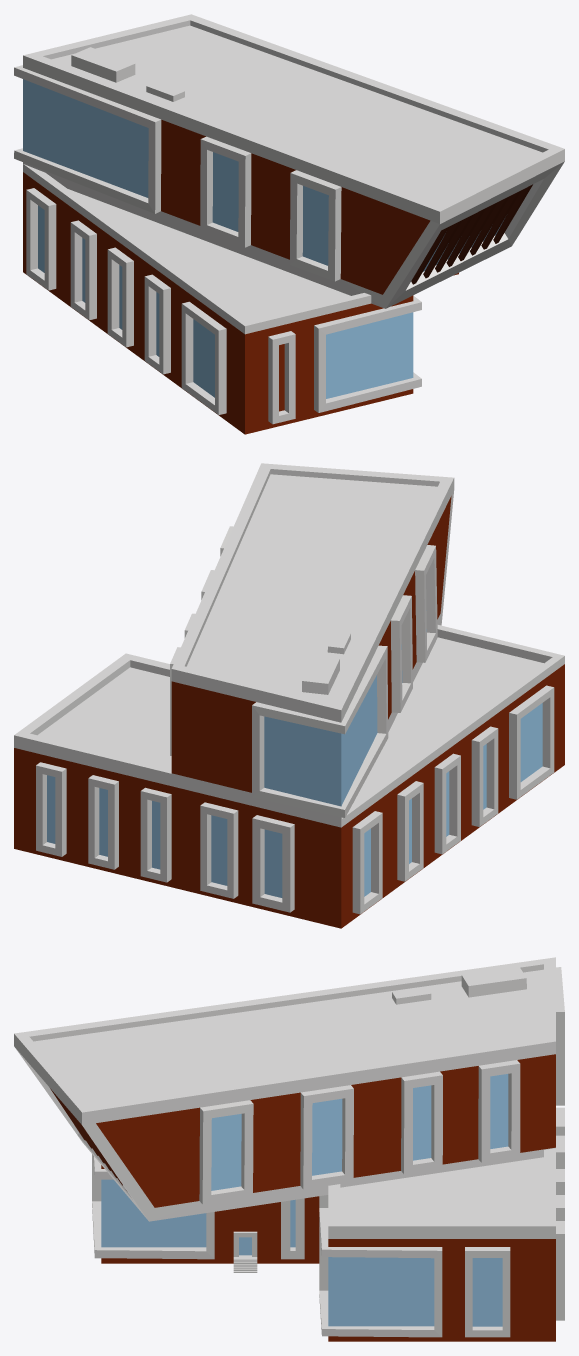
Rendered from library.glb.
3 renders of one model, top to bottom at view 1: azimuth 30°, elevation 25°; view 2: azimuth 150°, elevation 25°; view 3: azimuth 270°, elevation 25°, orthographic. The views are drawn at different scales.
Visible parts, largest first — view 1: Library_large; view 2: Library_large; view 3: Library_large.
Part boxes in pixels (x1,y1,x2,y2): Library_large: [14, 14, 564, 434]; Library_large: [14, 463, 564, 928]; Library_large: [14, 957, 564, 1341].
Bounding box in the file's own units: 2.62 × 1.64 × 3.59.
1 material, 1 textured.
